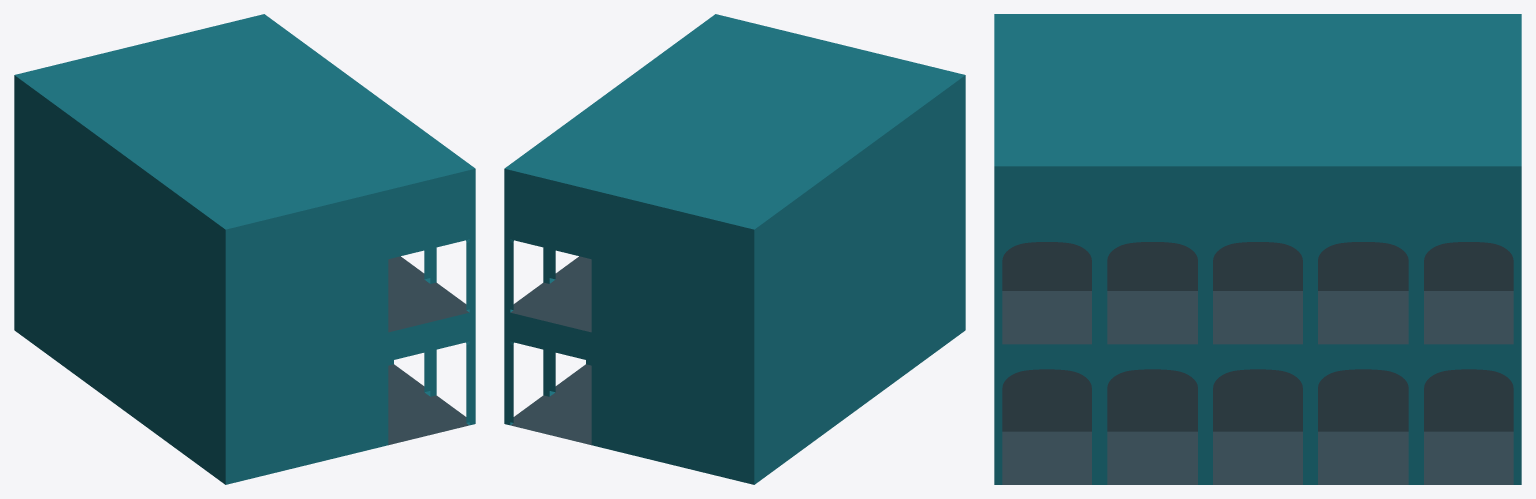
The model's file is Building02.fbx.
The picture shows the model from 3 angles, left to right: view 1: azimuth 30°, elevation 25°; view 2: azimuth 150°, elevation 25°; view 3: azimuth 270°, elevation 25°; orthographic projection. The views are drawn at different scales.
Parts seen in each view (by area): view 1: Cube; view 2: Cube; view 3: Cube.
Part boxes in pixels (left/top/right/bottom): Cube: left=14, top=14, right=475, bottom=484; Cube: left=504, top=14, right=965, bottom=484; Cube: left=994, top=14, right=1521, bottom=484.
Bounding box in the file's own units: 2050 × 2000 × 3000.
